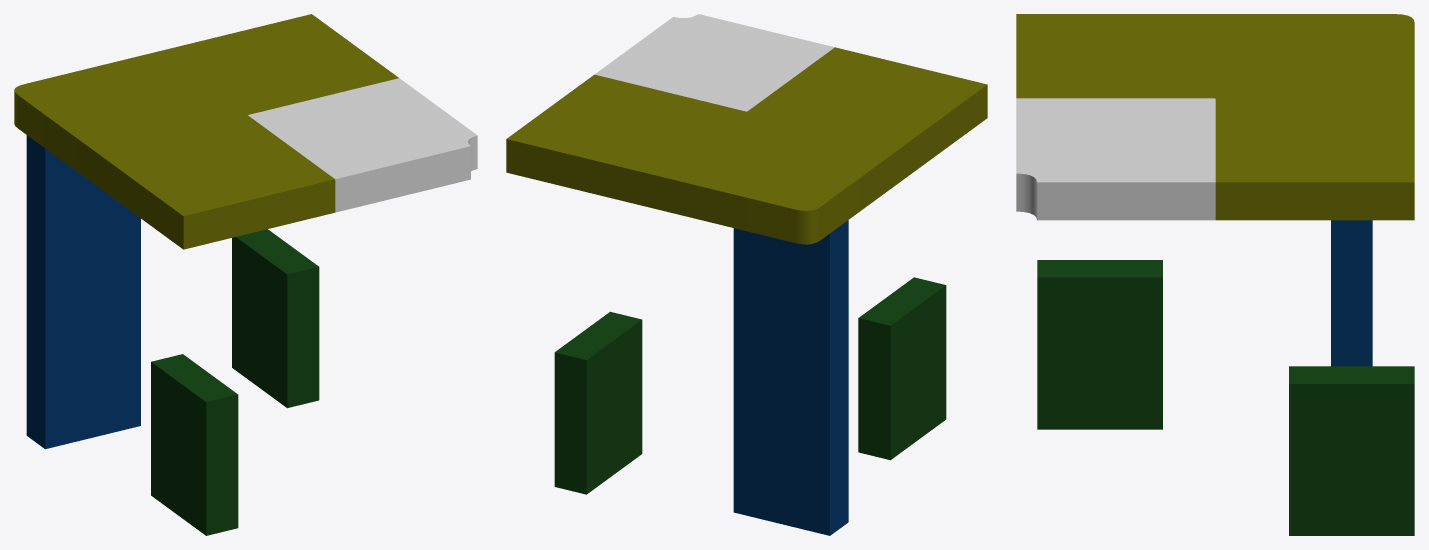
File: T1DirR.fbx
The picture shows the model from 3 angles, left to right: view 1: azimuth 30°, elevation 25°; view 2: azimuth 150°, elevation 25°; view 3: azimuth 270°, elevation 25°; orthographic projection. The views are drawn at different scales.
Visible parts, largest first — view 1: 4, 3, 2, 1; view 2: 4, 2, 3, 1; view 3: 2, 3, 1, 4.
Part boxes in pixels (x1,y1,x2,y2): 4: (14,51,247,449); 3: (96,115,335,535); 2: (160,14,398,408); 1: (248,78,477,212); 4: (659,112,899,535); 2: (506,74,746,494); 3: (747,47,987,460); 1: (595,14,834,111); 2: (1215,98,1414,535); 3: (1016,14,1215,429); 1: (1016,98,1215,220); 4: (1215,14,1414,366).
Size of the model in its own units: 190 by 200 by 190.
